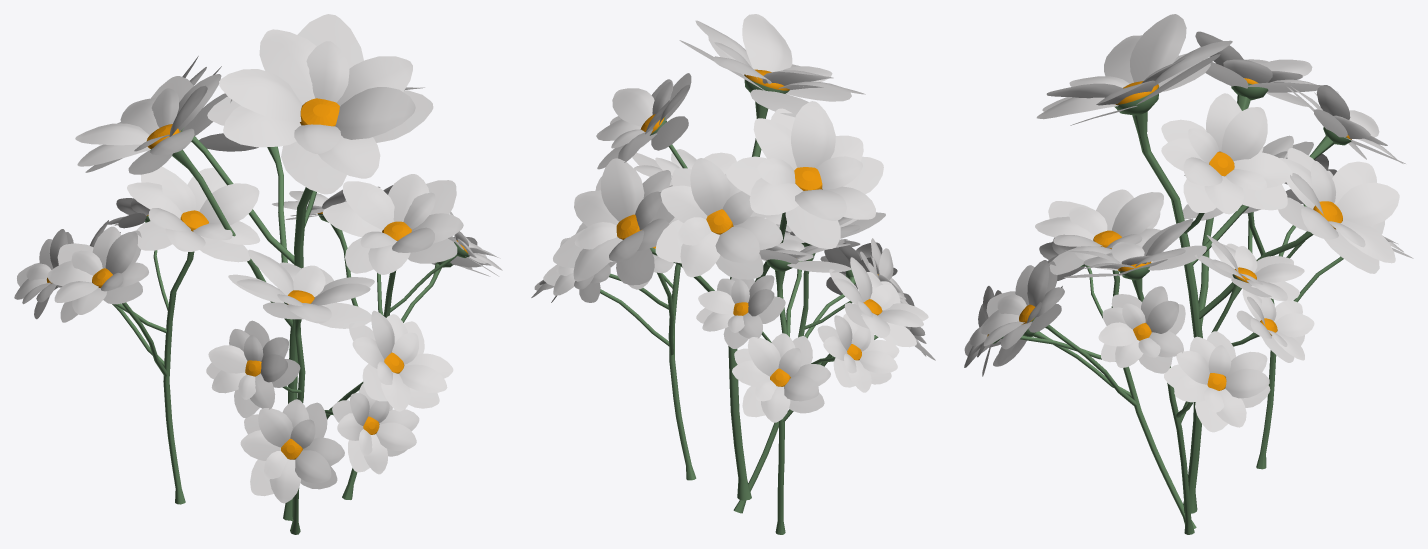
The model's file is WhiteFlower.fbx.
3 renders of one model, left to right at view 1: azimuth 30°, elevation 25°; view 2: azimuth 150°, elevation 25°; view 3: azimuth 270°, elevation 25°, orthographic. The views are drawn at different scales.
Visible parts, largest first — view 1: Chrysanthemum_pPlane23, pPlane24, Chrysanthemum_pPlane22, Chrysanthemum_pPlane21; view 2: Chrysanthemum_pPlane23, Chrysanthemum_pPlane22, Chrysanthemum_pPlane21, pPlane24; view 3: Chrysanthemum_pPlane23, Chrysanthemum_pPlane21, pPlane24, Chrysanthemum_pPlane22.
Part boxes in pixels (x1,y1,x2,y2): Chrysanthemum_pPlane23: [75, 14, 433, 520]; pPlane24: [206, 249, 453, 534]; Chrysanthemum_pPlane22: [14, 166, 260, 504]; Chrysanthemum_pPlane21: [272, 174, 502, 499]; Chrysanthemum_pPlane23: [553, 14, 883, 500]; Chrysanthemum_pPlane22: [696, 239, 928, 534]; Chrysanthemum_pPlane21: [531, 149, 736, 480]; pPlane24: [733, 212, 935, 513]; Chrysanthemum_pPlane23: [1036, 14, 1405, 513]; Chrysanthemum_pPlane21: [1064, 219, 1314, 534]; pPlane24: [964, 189, 1196, 528]; Chrysanthemum_pPlane22: [1182, 135, 1413, 469].
Bounding box in the file's own units: 13.52 × 15.14 × 12.45.
